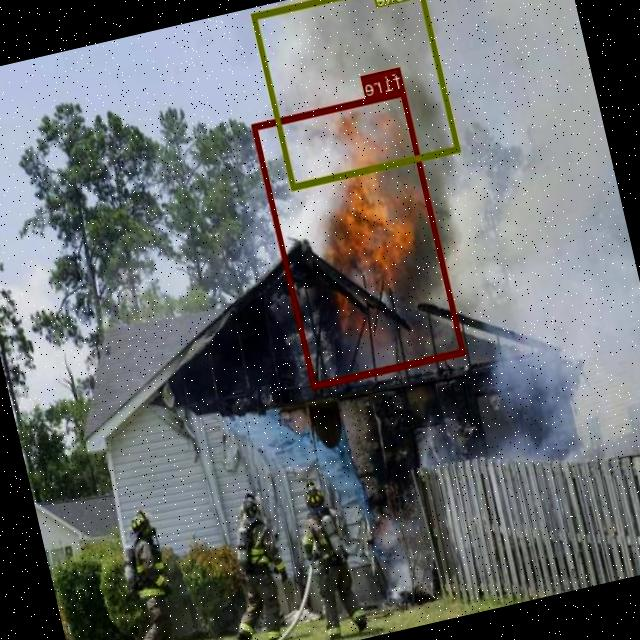fire: (252, 88, 466, 386)
smoke: (251, 0, 461, 189)
